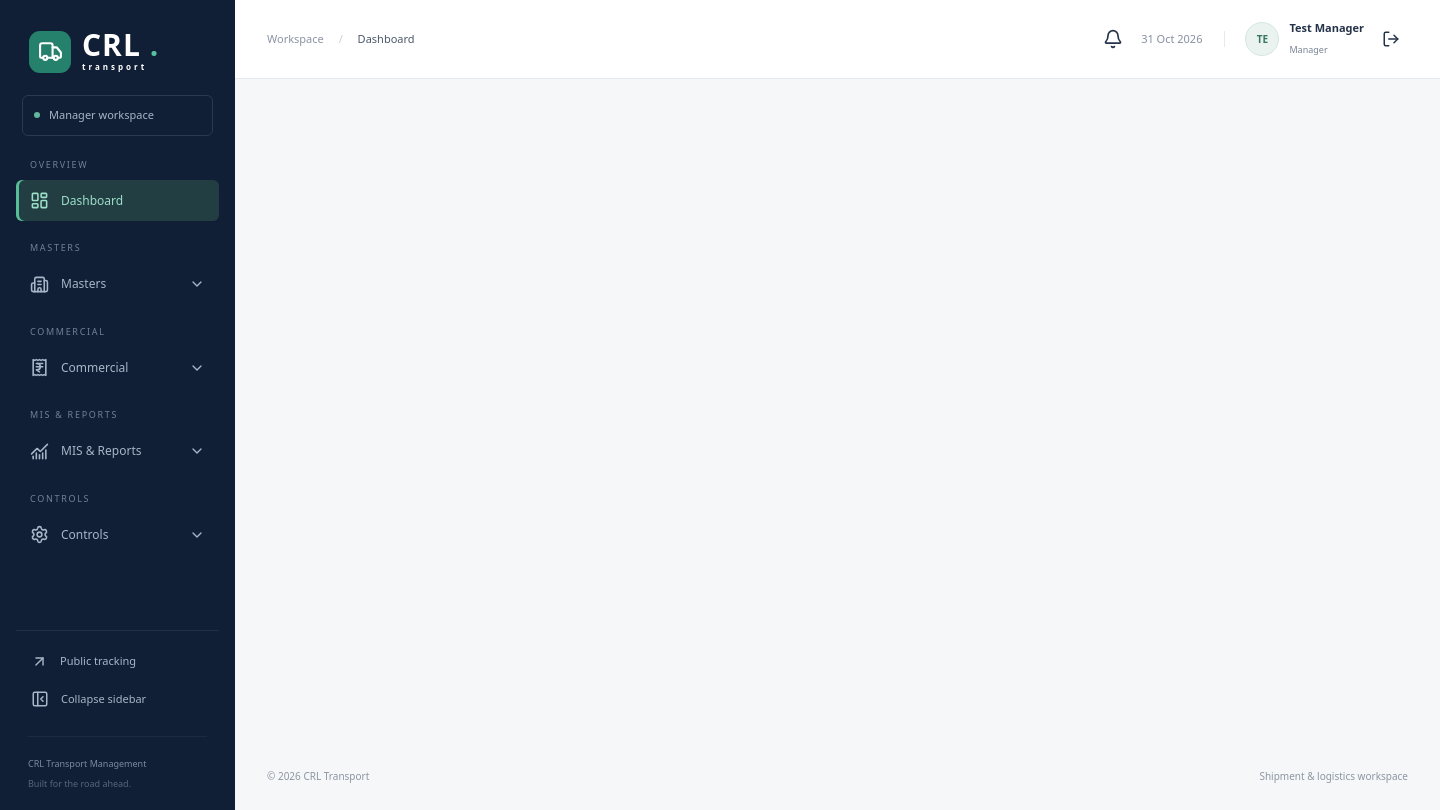
Test: Manager workspace › restores manager sessions and renders manager-only navigation
This screenshot has width=1440, height=810.
Expected: the text "Manager workspace" is shown, x1=49 y1=107 x2=154 y2=124
Step 1. Click the button "Masters" → [118, 284], box x1=16 y1=264 x2=219 y2=304
(page scrolled)
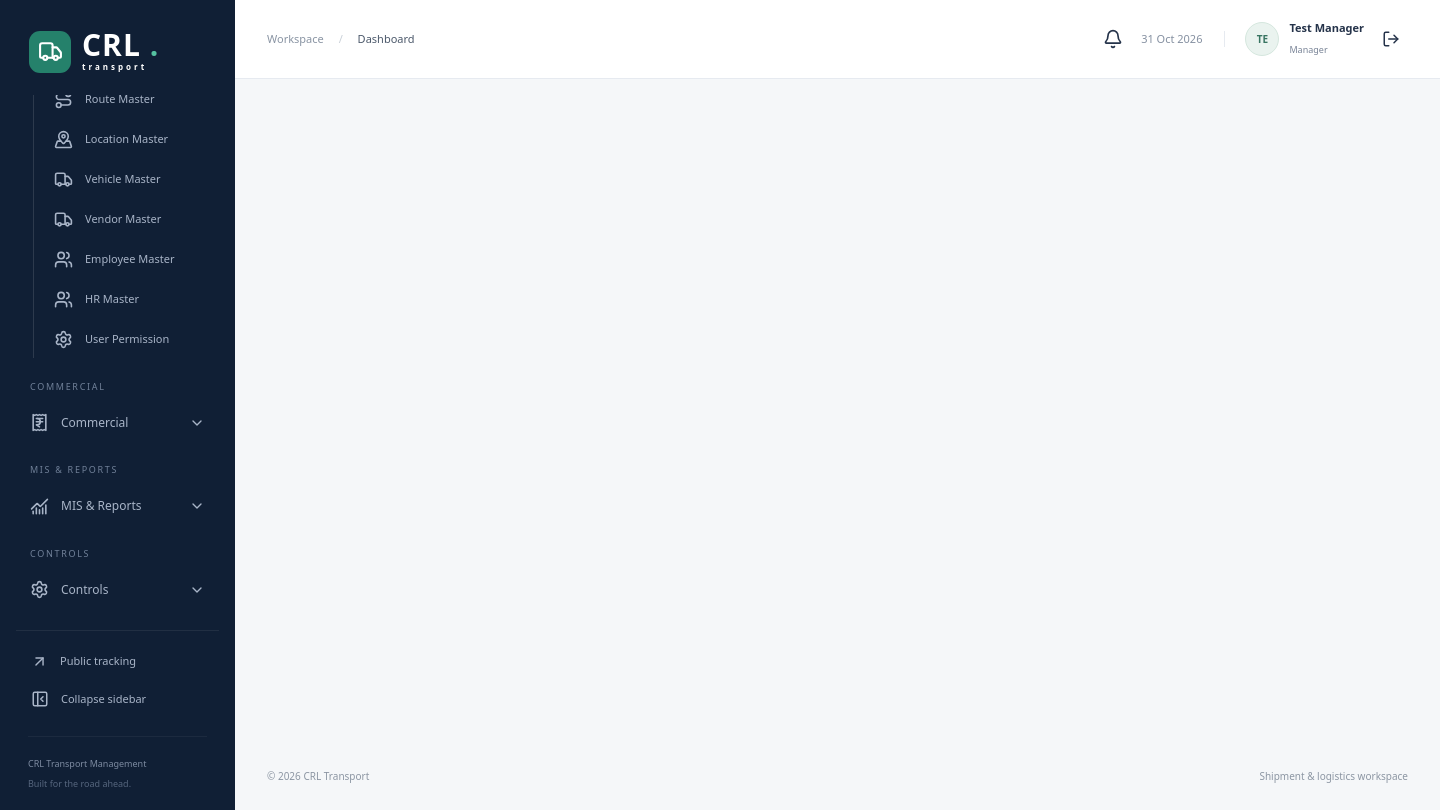
Step 2. Click the button "MIS & Reports" → [118, 506], box x1=16 y1=486 x2=219 y2=526
(page scrolled)
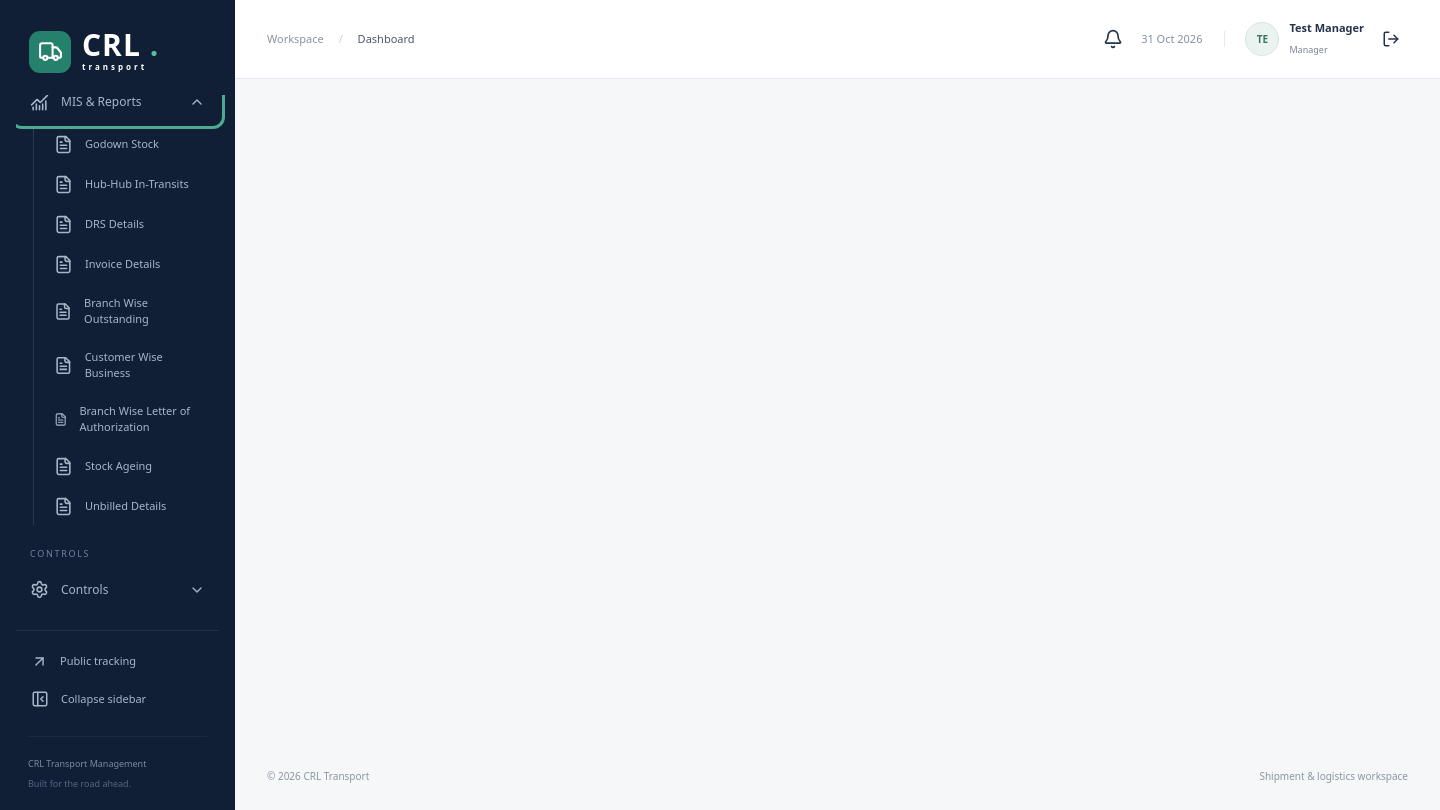
Step 3. Click the button "Controls" → [118, 590], box x1=16 y1=569 x2=219 y2=610
(page scrolled)
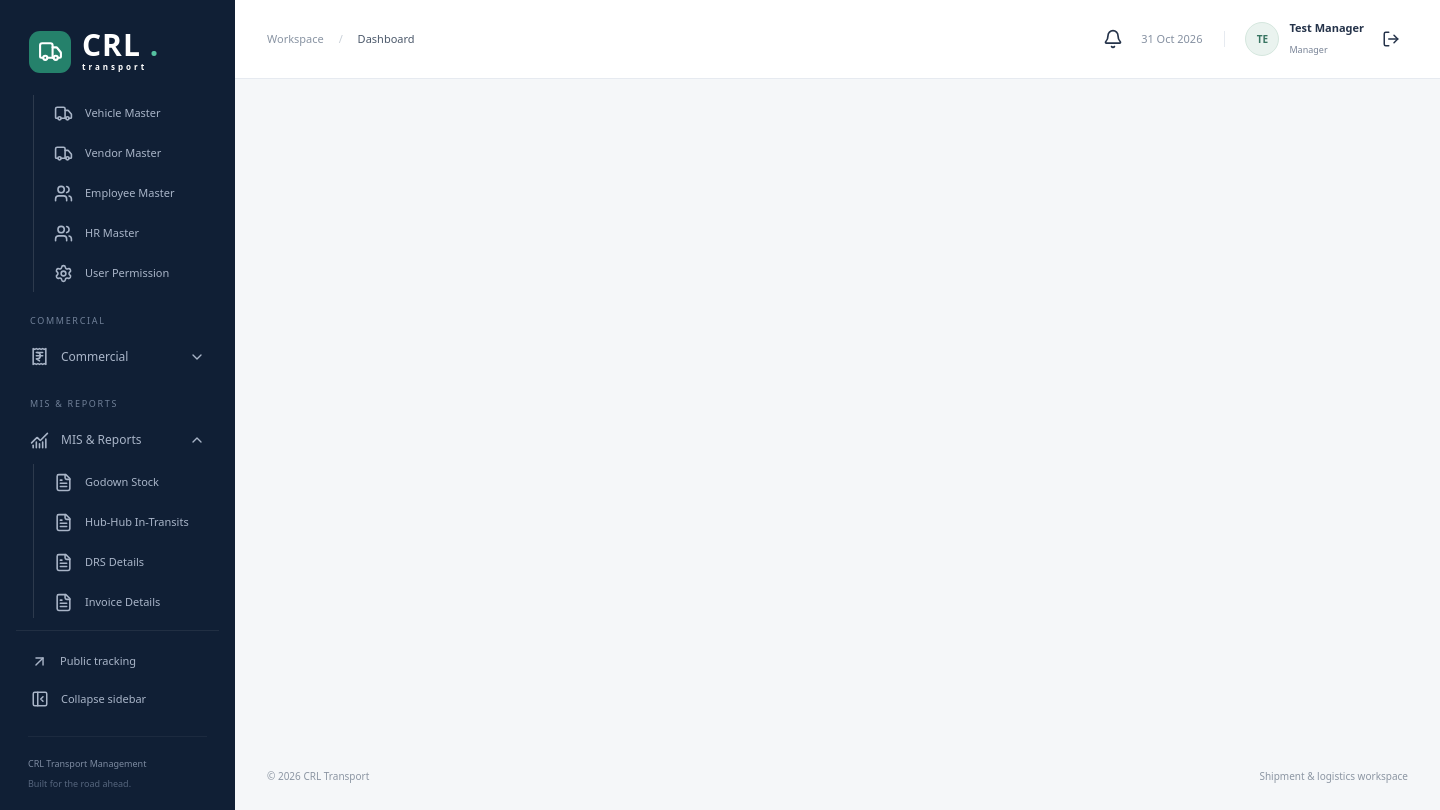
Now the link "HR Master" has attribute href="/manager/hr-users", box x1=54 y1=224 x2=139 y2=242
Now the link "User Permission" has attribute href="/manager/permissions", box x1=54 y1=264 x2=169 y2=282
Now the link "Vendor Master" has attribute href="/manager/vendors", box x1=54 y1=144 x2=161 y2=162
Step 4. Click the button "Commercial" → [118, 356], box x1=16 y1=336 x2=219 y2=377
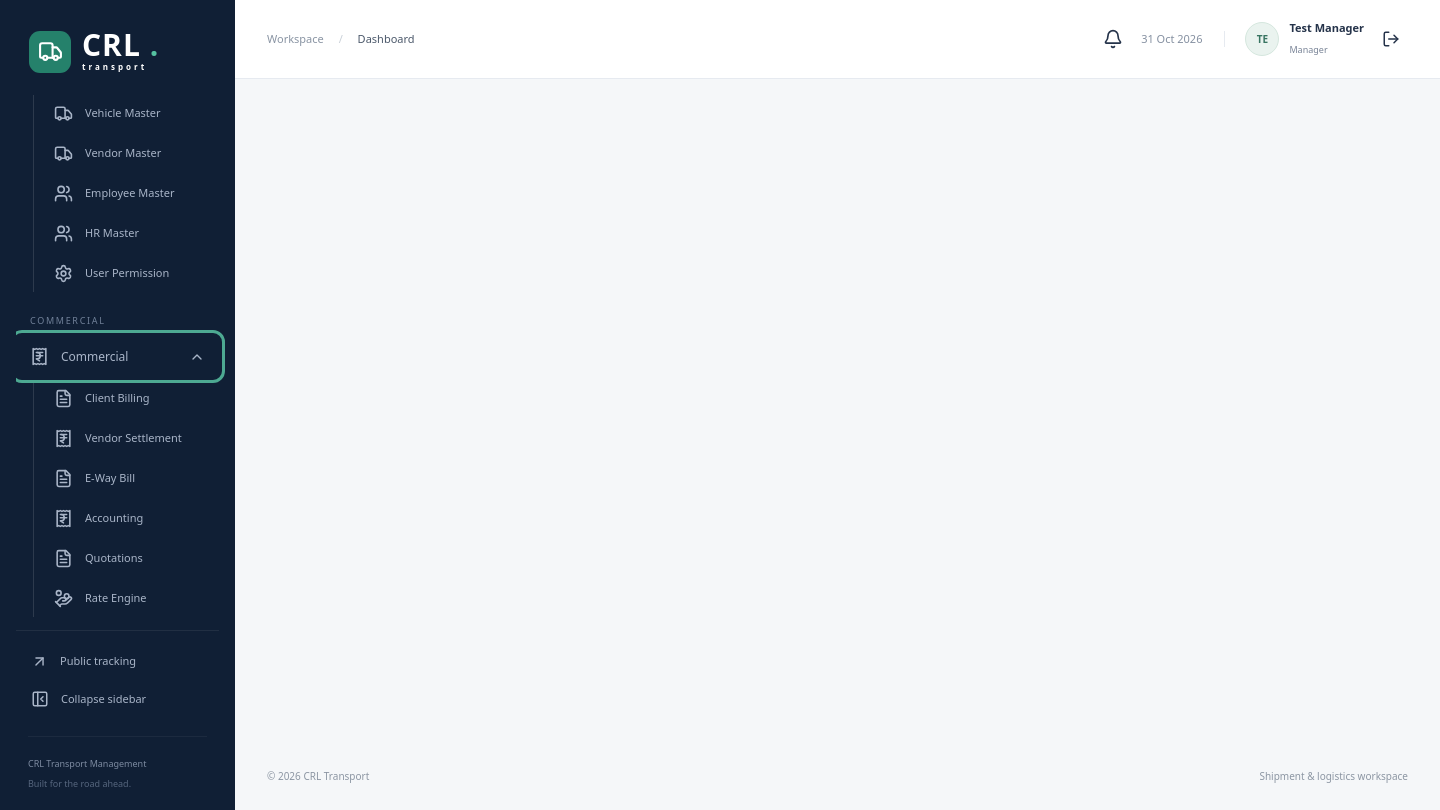
Step 5. Click the button "Commercial" → [118, 356], box x1=16 y1=336 x2=219 y2=377
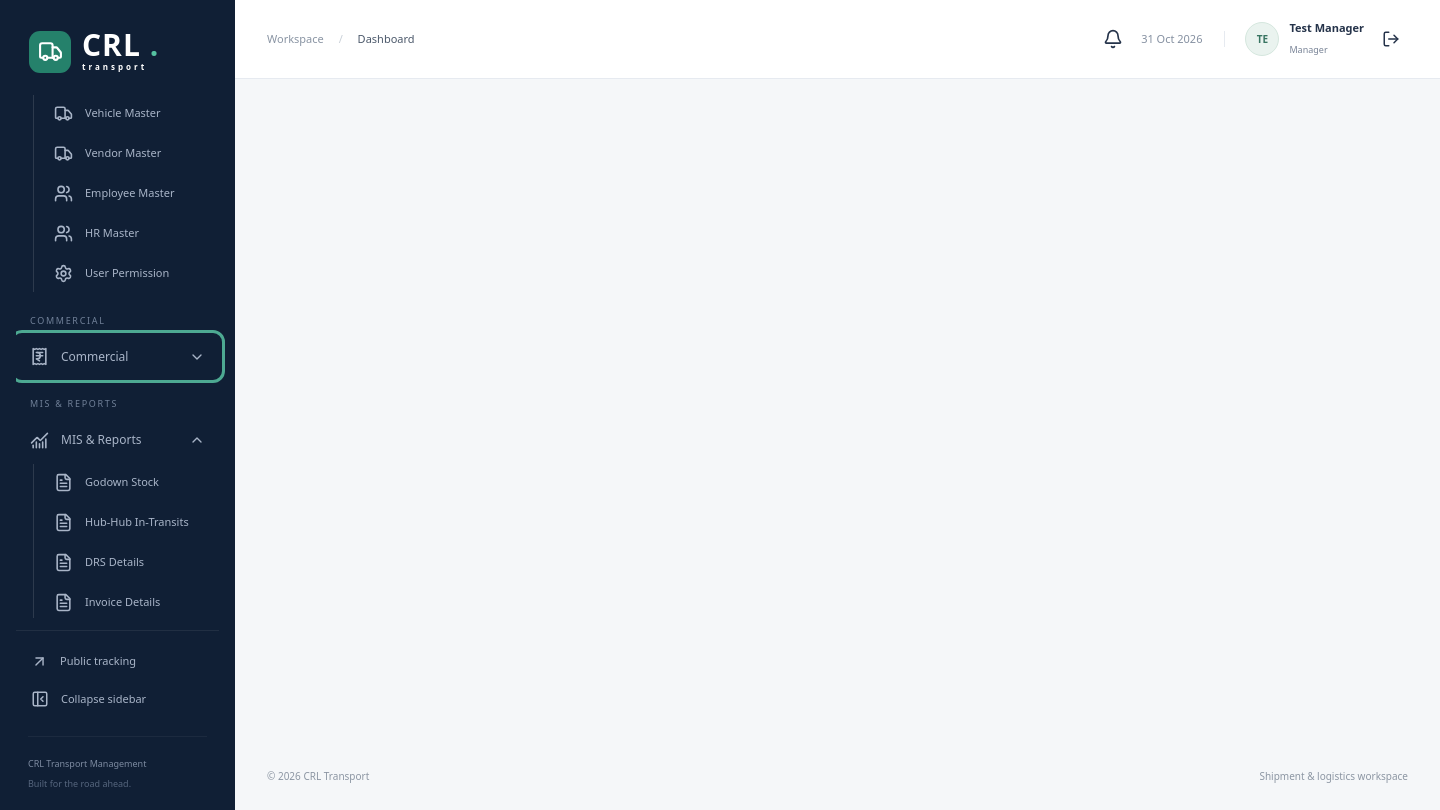
Now the link "Client Billing" is gone
